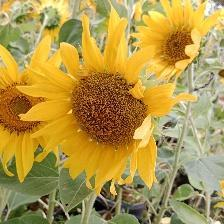sunflower: (41, 40, 167, 190)
